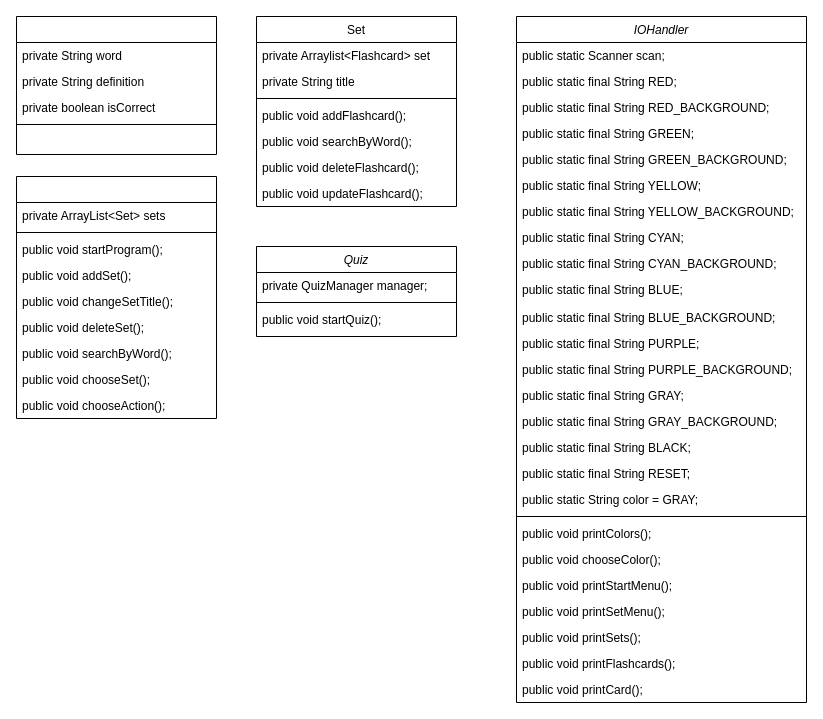
Some shapes in this 823 by 719 pixel diagram are drawn without their labels. The shapes that lost their labels are listed below. From the top down, each one's box as (x1, y1, x2, y2) in pixels, then its label:
(16, 16, 216, 154): Flashcard
(16, 176, 216, 418): Quizmanager
